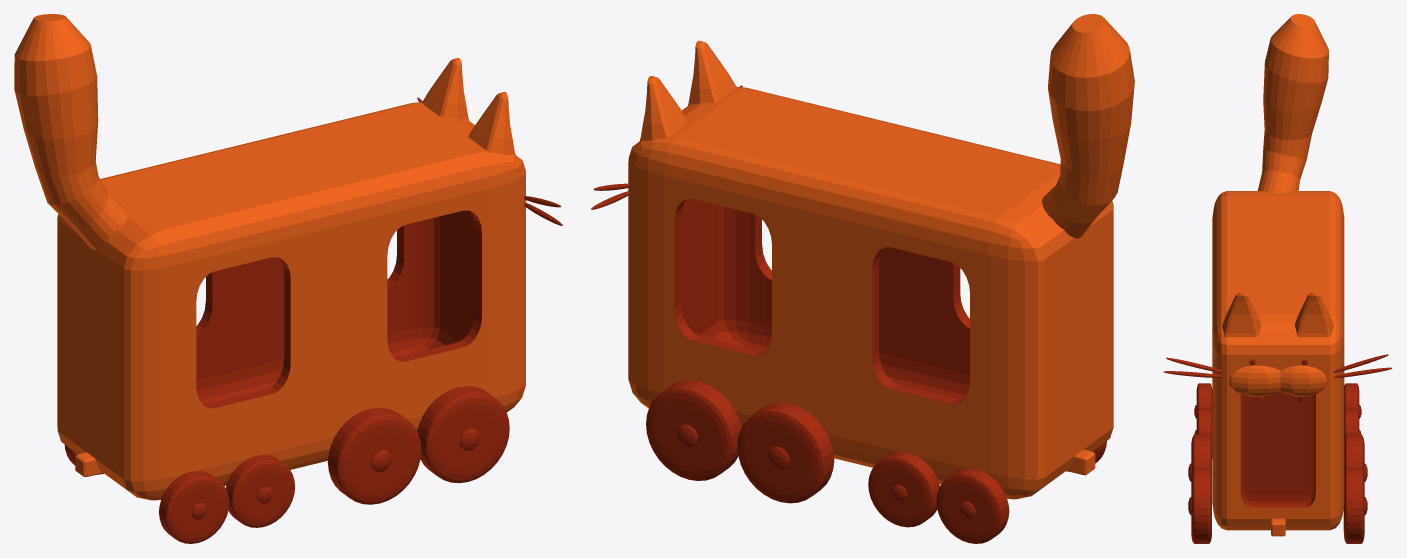
File: wagons_miaou.glb
The picture shows the model from 3 angles, left to right: view 1: azimuth 30°, elevation 25°; view 2: azimuth 150°, elevation 25°; view 3: azimuth 270°, elevation 25°; orthographic projection. The views are drawn at different scales.
Parts seen in each view (by area): view 1: wagon_chat, wagon_chat_tail, roue.042, roue.043, roue.040, roue.041; view 2: wagon_chat, wagon_chat_tail, roue.037, roue.036, roue.039, roue.038; view 3: wagon_chat, wagon_chat_tail, roue.036, roue.043, roue.042, roue.037, roue.041, roue.040, roue.039, roue.038.
Part boxes in pixels (<box>): wagon_chat: <box>57,58,562,500</box>; wagon_chat_tail: <box>14,14,128,250</box>; roue.042: <box>327,407,421,504</box>; roue.043: <box>417,386,509,483</box>; roue.040: <box>159,471,229,543</box>; roue.041: <box>226,455,294,527</box>; wagon_chat: <box>591,40,1113,499</box>; wagon_chat_tail: <box>1042,14,1134,238</box>; roue.037: <box>737,403,834,503</box>; roue.036: <box>646,380,741,480</box>; roue.039: <box>936,468,1009,543</box>; roue.038: <box>868,451,939,527</box>; wagon_chat: <box>1163,191,1392,536</box>; wagon_chat_tail: <box>1257,14,1328,193</box>; roue.036: <box>1343,468,1367,543</box>; roue.043: <box>1188,468,1211,543</box>; roue.042: <box>1188,434,1211,481</box>; roue.037: <box>1344,434,1367,481</box>; roue.041: <box>1194,408,1212,458</box>; roue.040: <box>1194,383,1212,418</box>; roue.039: <box>1344,383,1361,418</box>; roue.038: <box>1344,408,1361,438</box>.
Size of the model in its own units: 57.87 by 58.41 by 31.09.
